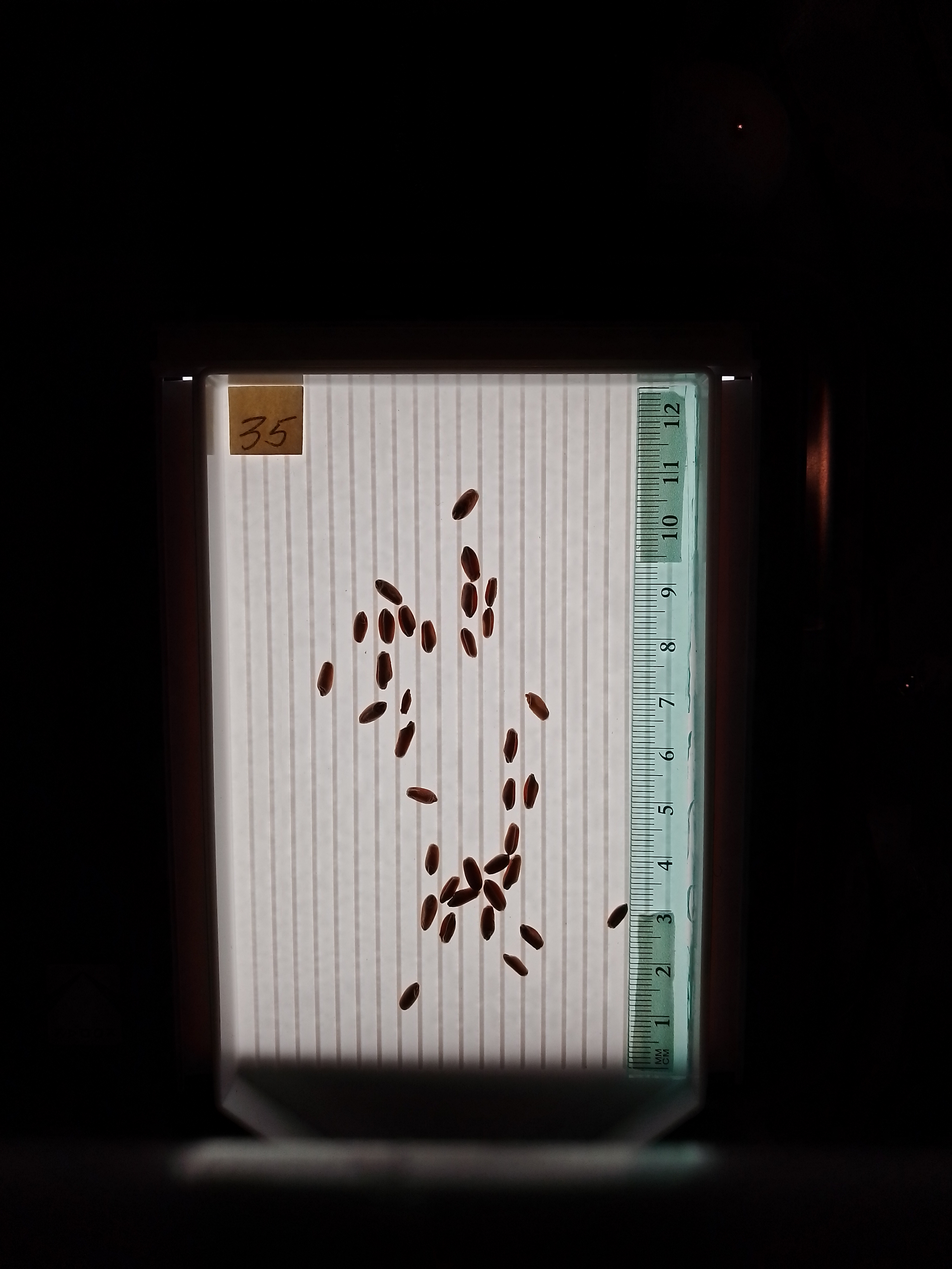seed mask: (452, 489, 478, 520), (484, 880, 506, 911), (395, 723, 415, 757), (461, 547, 480, 580), (376, 580, 402, 604), (463, 858, 482, 890), (520, 924, 543, 950), (376, 653, 393, 688), (420, 895, 437, 930), (359, 702, 386, 724), (527, 693, 549, 720), (399, 983, 420, 1011), (503, 855, 520, 888), (449, 887, 477, 907), (317, 663, 334, 695), (523, 775, 539, 808), (440, 876, 459, 903), (421, 621, 437, 653), (504, 954, 527, 976), (607, 904, 628, 928), (380, 610, 395, 643), (399, 607, 416, 636), (408, 787, 437, 804), (462, 584, 477, 616), (485, 854, 508, 874), (504, 730, 518, 762), (480, 907, 494, 939), (440, 914, 455, 943), (461, 629, 476, 657), (505, 824, 519, 854), (425, 844, 439, 874), (354, 613, 368, 642), (503, 779, 516, 810), (485, 578, 497, 605), (483, 610, 494, 637)
